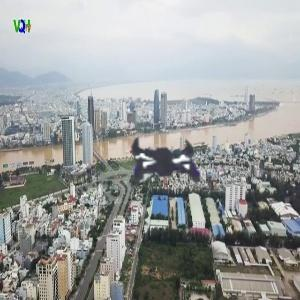drone: (75, 79, 257, 261)
